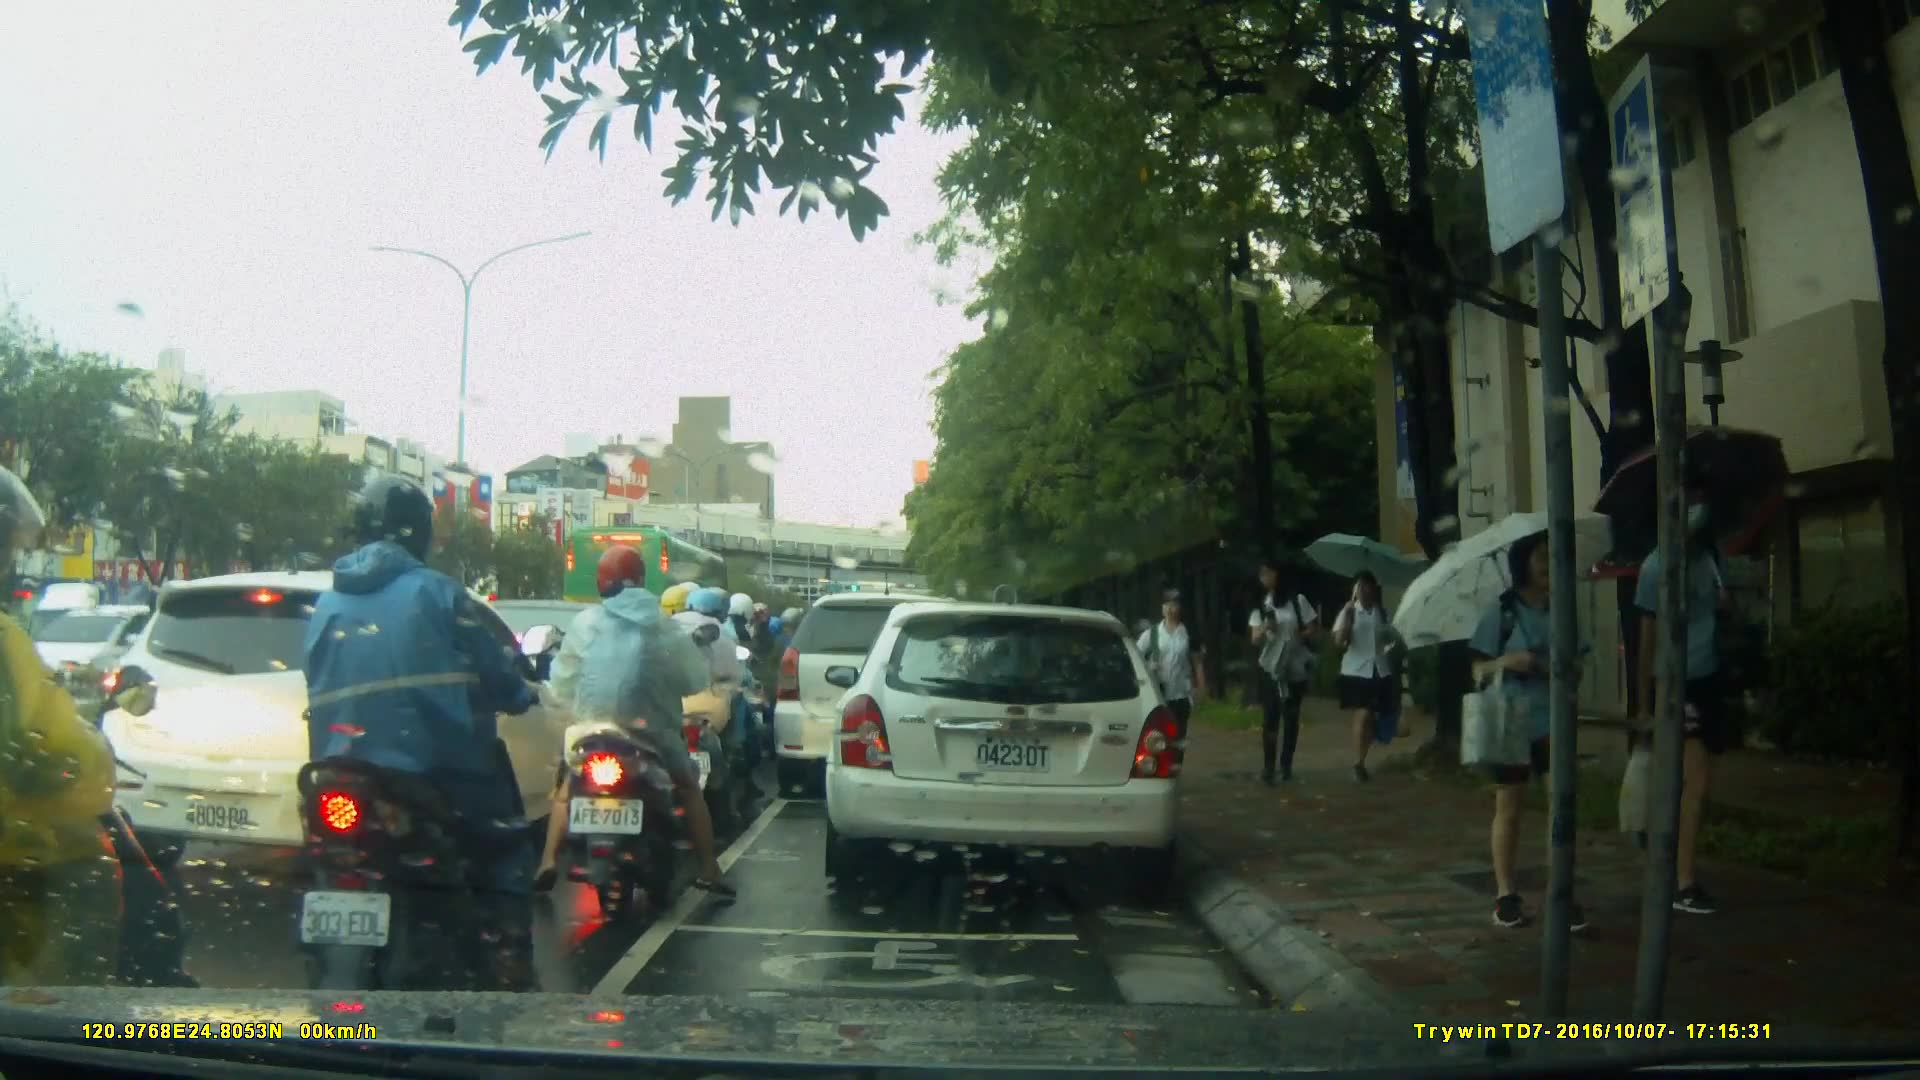pedestrian: (1467, 506, 1619, 946), (1619, 463, 1760, 919), (1322, 562, 1407, 782), (1243, 560, 1325, 785), (1128, 586, 1211, 783)
rider: (298, 475, 566, 1010), (1, 455, 181, 1080), (546, 546, 746, 922), (634, 578, 767, 838), (680, 594, 768, 785)
vehicle: (93, 569, 617, 883), (822, 604, 1187, 883), (774, 595, 995, 802), (575, 527, 752, 655), (38, 608, 186, 703)
